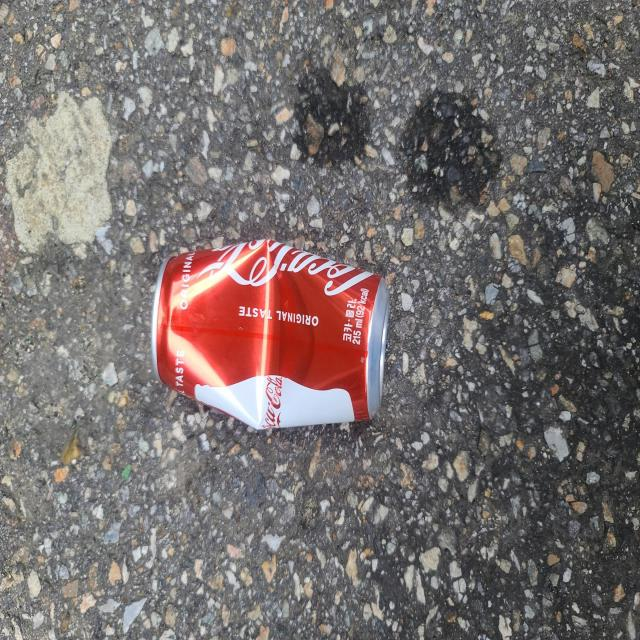can: (152, 239, 389, 430)
